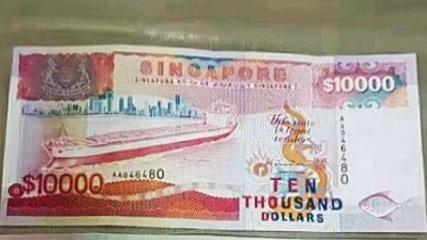10000SingaporeDollar: (6, 51, 414, 229)
